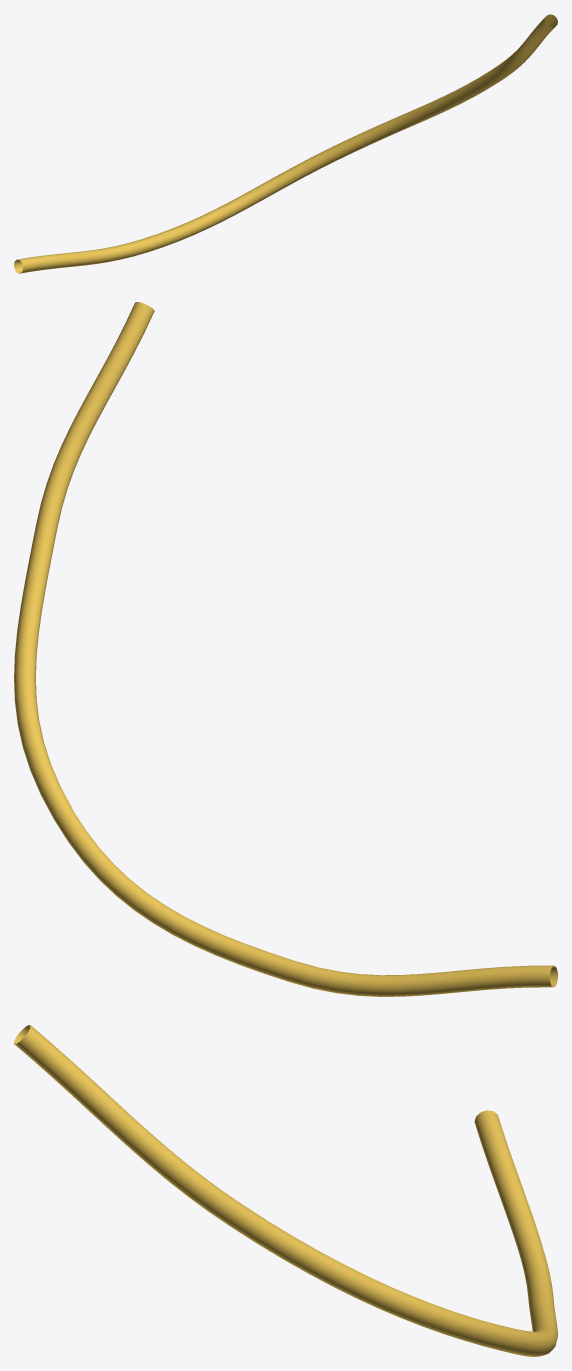
The model's file is Muscular_branches_axillary_nerve_left.glb.
The picture shows the model from 3 angles, top to bottom: view 1: azimuth 30°, elevation 25°; view 2: azimuth 150°, elevation 25°; view 3: azimuth 270°, elevation 25°; orthographic projection. The views are drawn at different scales.
Parts seen in each view (by area): view 1: Muscular_branches_of_axillary_nerve.l_BezierCurve.503; view 2: Muscular_branches_of_axillary_nerve.l_BezierCurve.503; view 3: Muscular_branches_of_axillary_nerve.l_BezierCurve.503.
Part boxes in pixels (x1,y1,x2,y2): Muscular_branches_of_axillary_nerve.l_BezierCurve.503: (14,14,557,273); Muscular_branches_of_axillary_nerve.l_BezierCurve.503: (14,302,557,996); Muscular_branches_of_axillary_nerve.l_BezierCurve.503: (14,1025,557,1356).
Size of the model in its own units: 0.0335 by 0.0215 by 0.0215.
